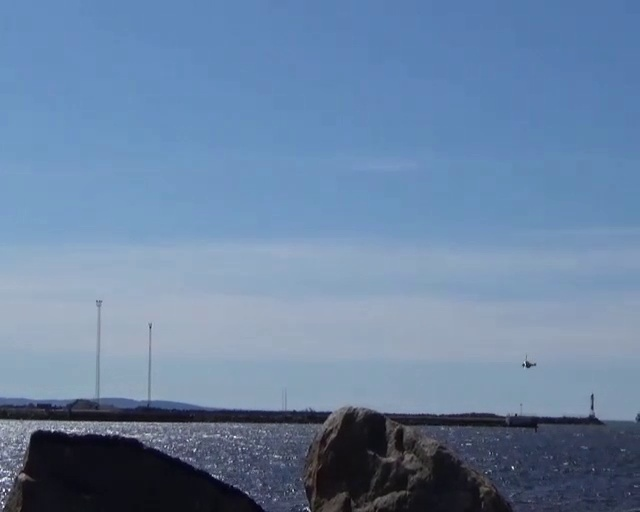HELICOPTER: (522, 354, 537, 368)
